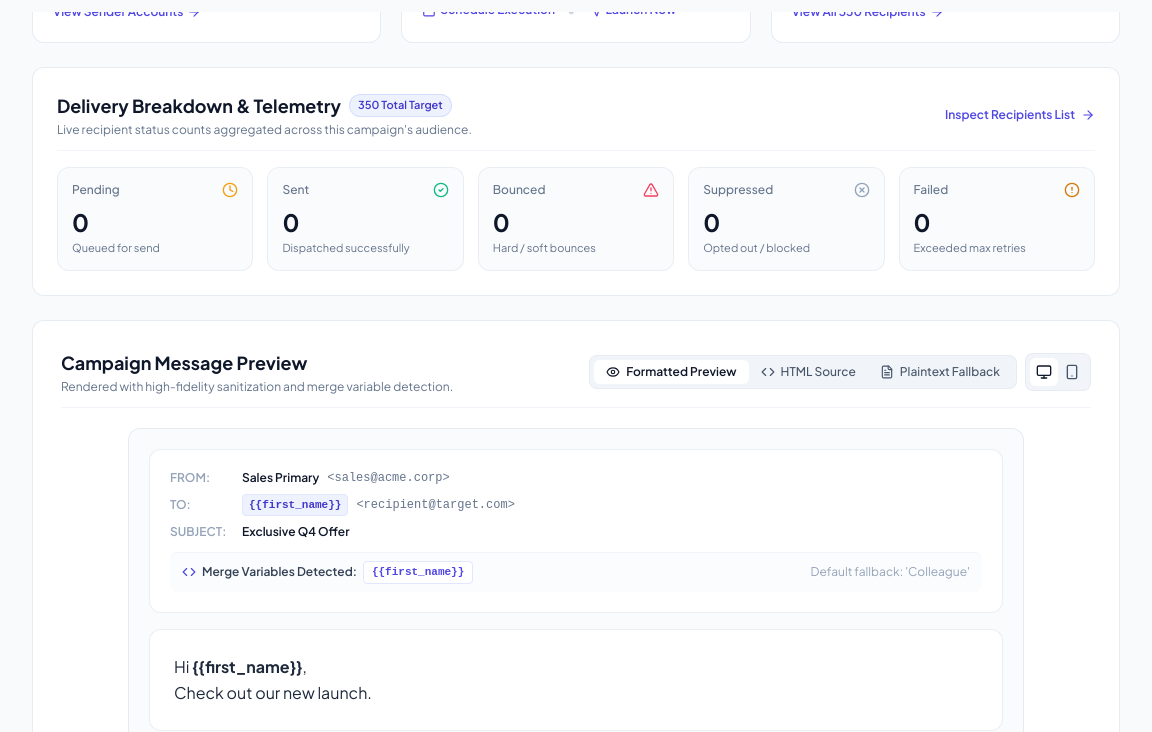
Test: Campaign Detail & Navigation (C12.3 Integration) › 1. CampaignDetailPage Rendering & State Handling › toggles between formatted preview, HTML source, and plaintext fallback views
(page scrolled)
Expected: the text "Check out our new launch." is shown, x1=174 y1=682 x2=372 y2=702
# Switch to HTML source
Click the button "HTML Source" at [808, 372], box x1=749 y1=360 x2=868 y2=384
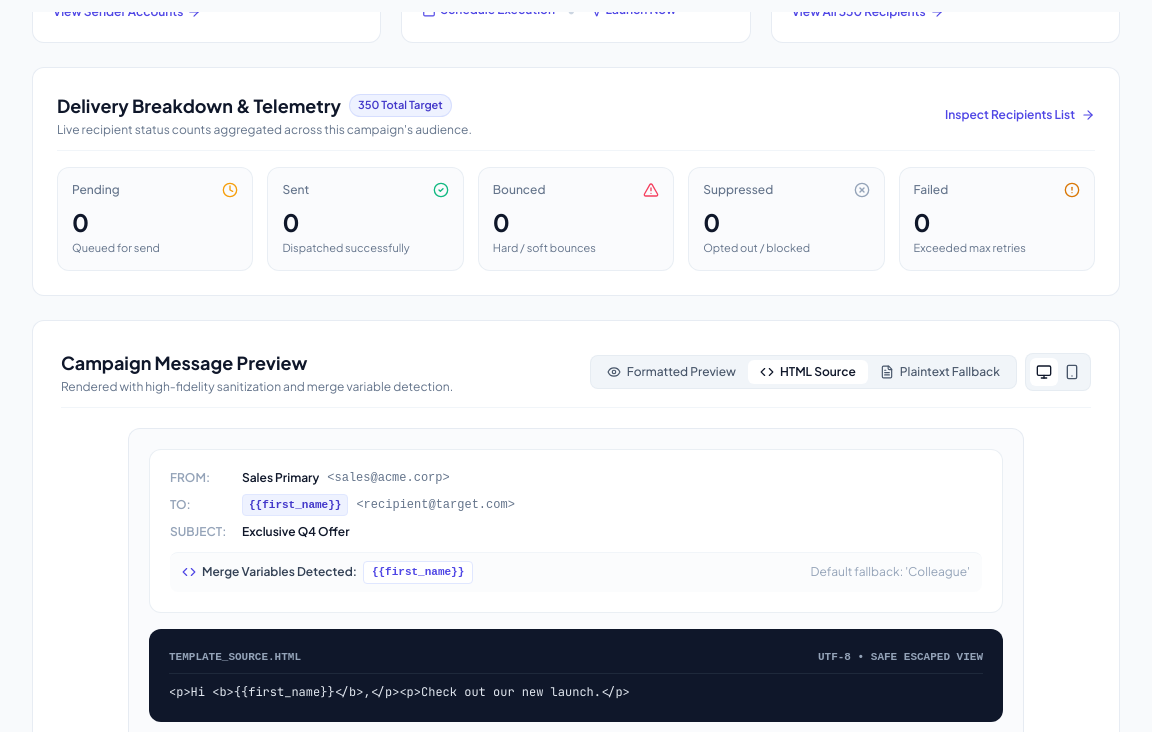
Now the text "template_source.html" is shown, box x1=169 y1=648 x2=301 y2=664
Now the text "<p>Hi <b>{{first_name}}</b>" is shown, box x1=169 y1=684 x2=630 y2=700
# Switch to Plaintext fallback
Click the button "Plaintext Fallback" at [940, 372], box x1=868 y1=360 x2=1012 y2=384
(page scrolled)
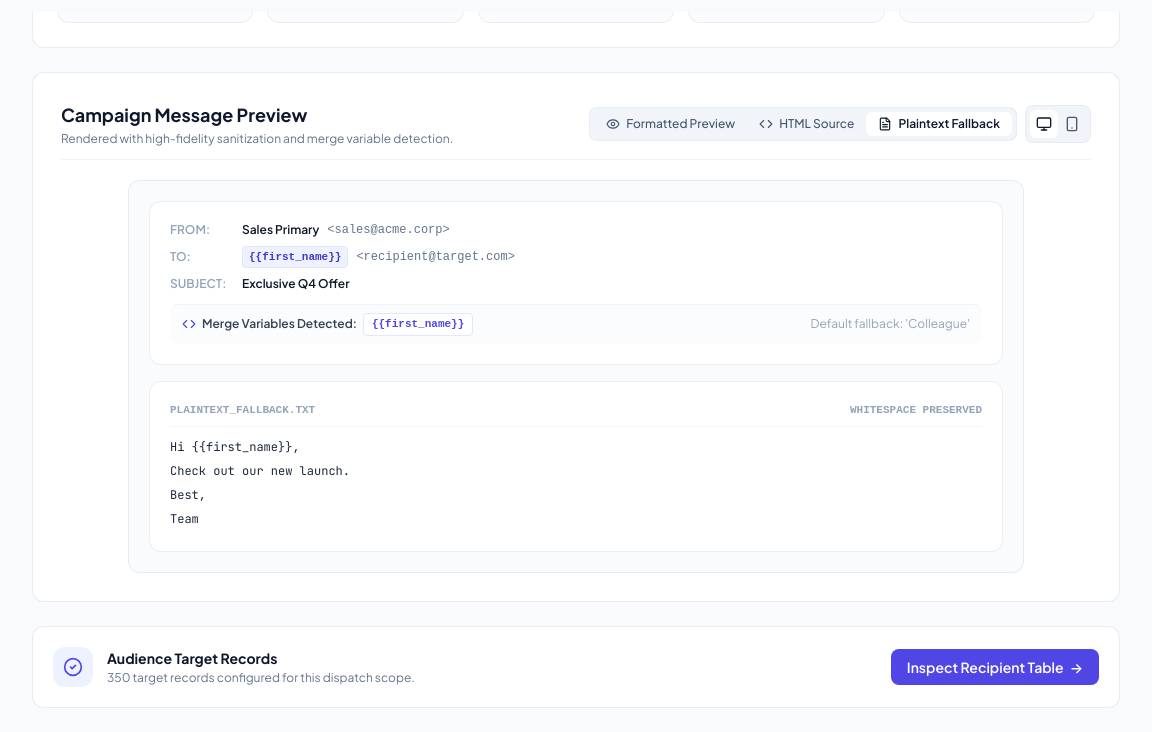
Now the text "plaintext_fallback.txt" is shown, box x1=170 y1=402 x2=315 y2=418
Now the text "Hi {{first_name}}, Check out our new launch. Best, Team" is shown, box x1=170 y1=438 x2=350 y2=526
